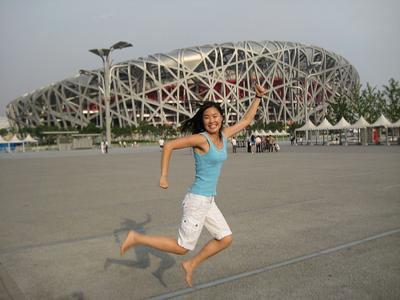person: (117, 85, 266, 288)
